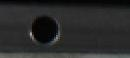holes: (29, 13, 60, 48)
